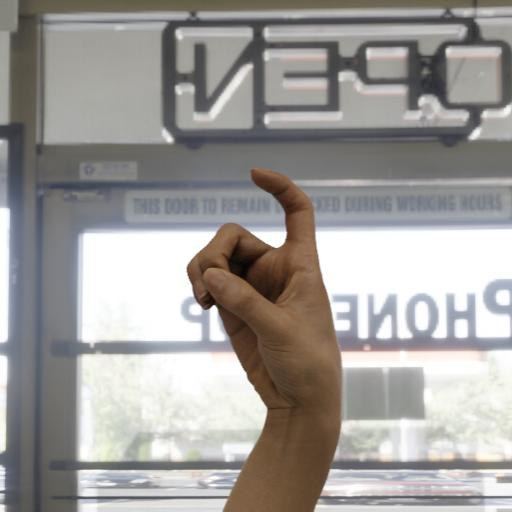X: (179, 159, 357, 460)
